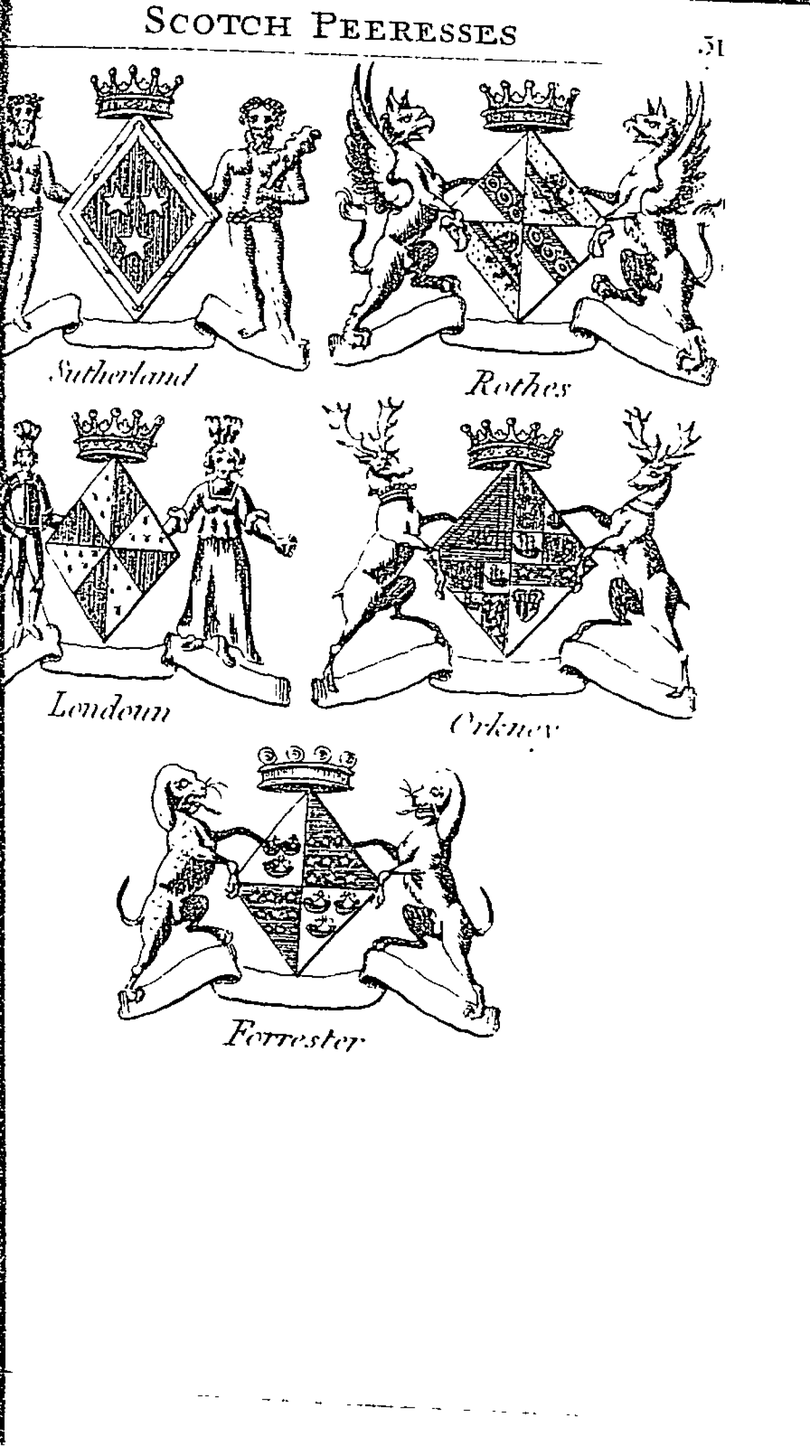coat_of_arms: (308, 395, 717, 754), (325, 58, 729, 404), (98, 736, 514, 1064), (4, 47, 318, 399), (7, 399, 291, 731)
